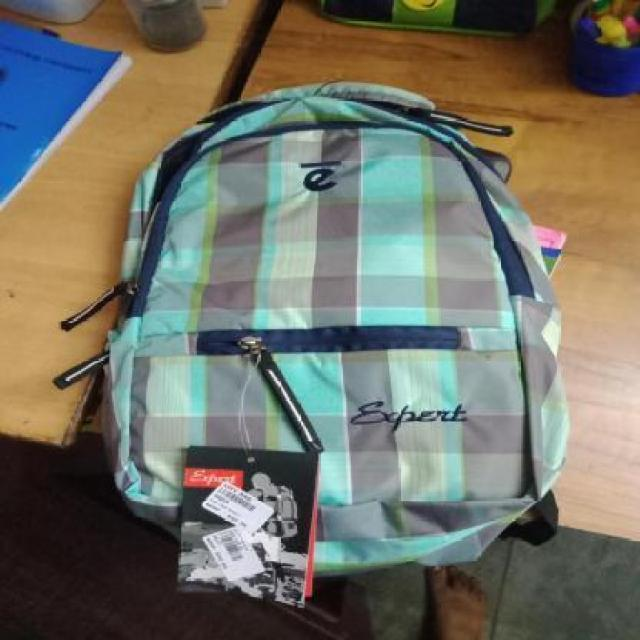backpack: (60, 76, 575, 584)
